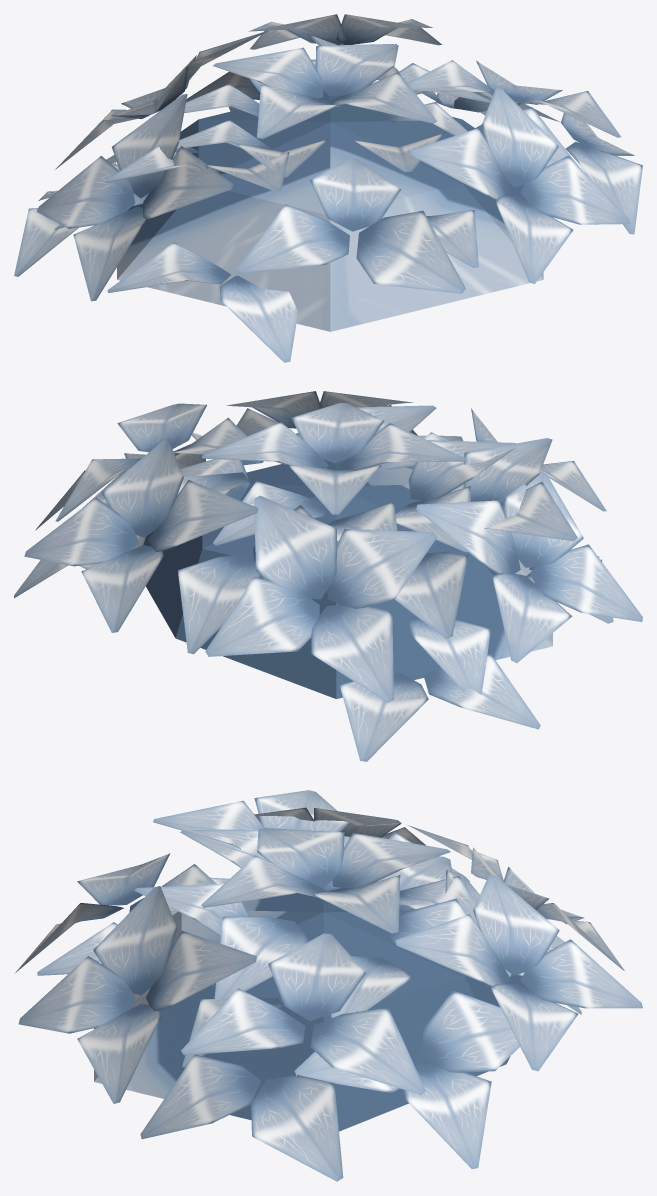
Rendered from leafybushwithtexture.fbx.
3 renders of one model, top to bottom at view 1: azimuth 30°, elevation 25°; view 2: azimuth 150°, elevation 25°; view 3: azimuth 270°, elevation 25°, orthographic. The views are drawn at different scales.
Parts seen in each view (by area): view 1: group1_pPlane1; view 2: group1_pPlane1; view 3: group1_pPlane1.
Part boxes in pixels (x1=…): group1_pPlane1: x1=14, y1=14, x2=642, y2=362; group1_pPlane1: x1=14, y1=391, x2=642, y2=761; group1_pPlane1: x1=14, y1=790, x2=642, y2=1181.
Bounding box in the file's own units: 14.7 × 4.54 × 13.29.
Materials: 1 (1 with a texture image).
